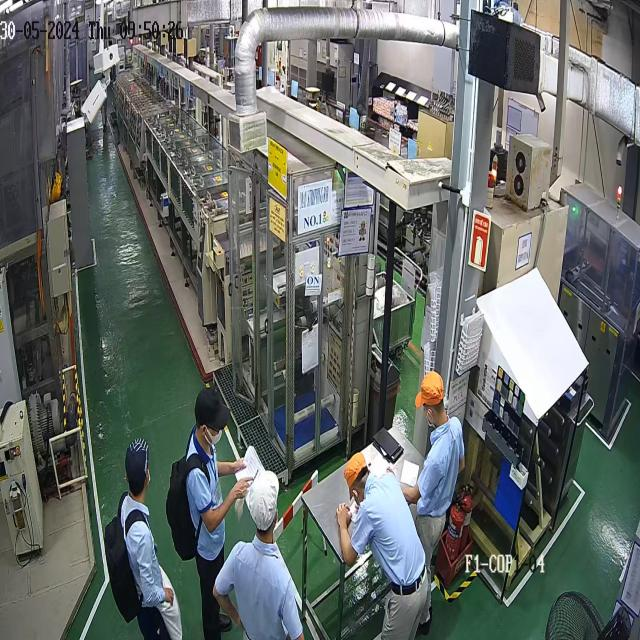Person: (399, 370, 466, 636), (336, 451, 430, 639), (184, 386, 253, 640), (212, 470, 305, 639), (116, 436, 182, 640)
